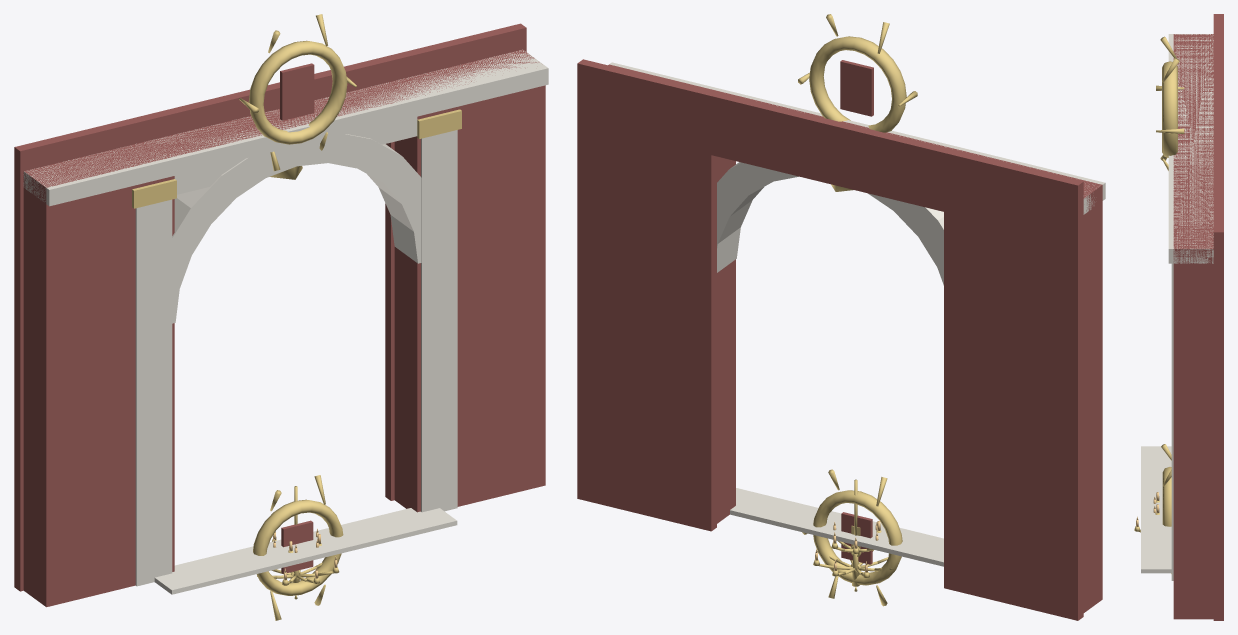
File: baroque.glb
The picture shows the model from 3 angles, left to right: view 1: azimuth 30°, elevation 25°; view 2: azimuth 150°, elevation 25°; view 3: azimuth 270°, elevation 25°; orthographic projection. The views are drawn at different scales.
Visible parts, largest first — view 1: Damask_shoulderL, Damask_shoulderR, Marble_cornice, Marble_pilL, Marble_pilR, Marble_arch, Damask_field, Damask_backL, Marble_threshold, Damask_backR, Damask_backHdr, Gilt_ring (+6 smaller); view 2: Damask_backR, Damask_backL, Damask_backHdr, Damask_shoulderL, Marble_arch, Damask_shoulderR, Marble_threshold, Gilt_ring, Gilt_ring.001, Marble_cornice, Damask_shield, Damask_field (+1 smaller); view 3: Damask_shoulderR, Damask_field, Marble_cornice, Damask_backR, Marble_threshold, Gilt_ring, Damask_backHdr, Marble_pilR, Damask_backL, Gilt_ring.001.
Boxes of the visible parts, x1,y1,x2,y2 form: Damask_shoulderL: (23,173,174,607); Damask_shoulderR: (394,85,545,512); Marble_cornice: (23,49,548,206); Marble_pilL: (135,199,172,586); Marble_pilR: (421,130,457,512); Marble_arch: (172,134,421,323); Damask_field: (23,50,539,188); Damask_backL: (14,115,155,591); Marble_threshold: (154,508,457,594); Damask_backR: (385,23,526,500); Damask_backHdr: (139,56,390,141); Gilt_ring: (248,40,347,144); Damask_backR: (577,59,716,531); Damask_backL: (944,149,1083,620); Damask_backHdr: (702,89,958,214); Damask_shoulderL: (1083,186,1102,612); Marble_arch: (717,162,943,285); Damask_shoulderR: (717,156,735,523); Marble_threshold: (730,488,943,566); Gilt_ring: (809,36,906,132); Gilt_ring.001: (813,490,902,585); Marble_cornice: (609,62,1105,214); Damask_shield: (840,60,873,116); Damask_field: (608,64,1102,198); Damask_shoulderR: (1173,250,1213,619); Damask_field: (1173,34,1213,250); Marble_cornice: (1168,34,1213,263); Damask_backR: (1213,173,1223,620); Marble_threshold: (1141,446,1171,573); Gilt_ring: (1162,61,1177,157); Damask_backHdr: (1213,67,1223,178); Marble_pilR: (1171,263,1173,580); Damask_backL: (1213,14,1223,67); Gilt_ring.001: (1162,467,1171,526).
Bounding box in the file's own units: 7.1 × 7.92 × 1.23.
